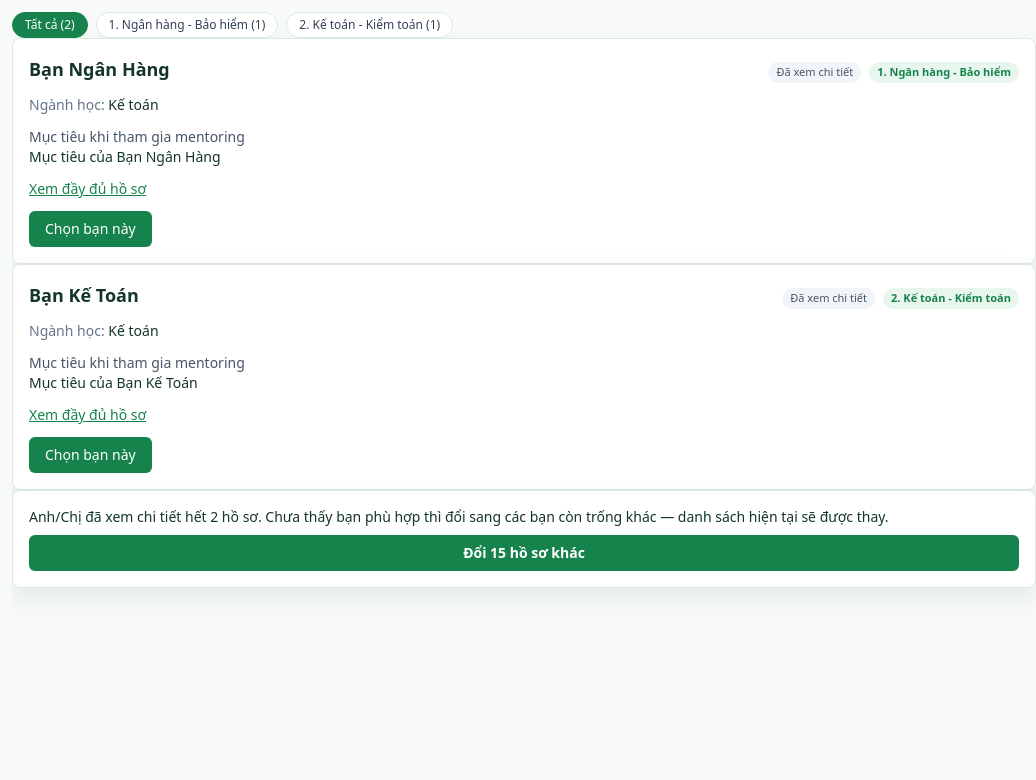
Scenario: đổi 15 hồ sơ khác (BTC 15/10/2026) › đã xem từ trước (máy chủ gửi xuống): nút hiện ngay; bấm thì gọi đúng token và thay bằng đúng danh sách máy chủ trả
Click the button with test id "swap-button" at (524, 553), box [29,535,1019,571]
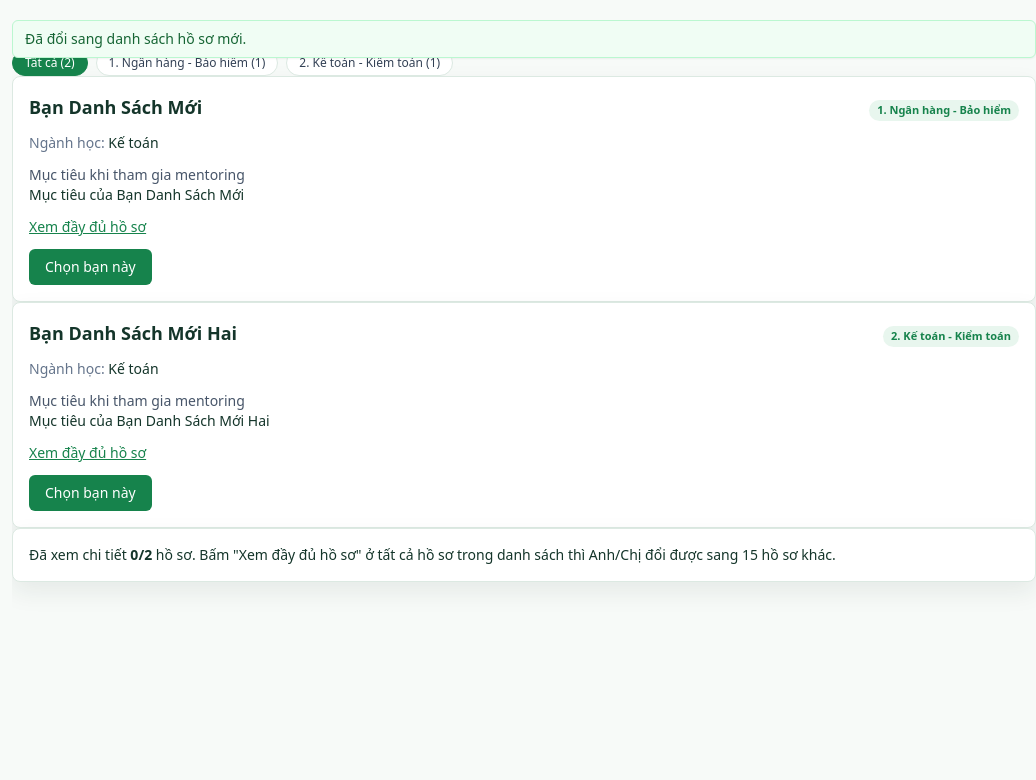
Check: the button with test id "swap-button" is gone
Check: the element with test id "swap-progress" shows "Đã xem chi tiết 0/2 hồ sơ", box [29,545,836,564]
Check: the message with test id "pick-report" reads "Đã đổi sang danh sách hồ sơ mới.", box [25,29,246,48]
